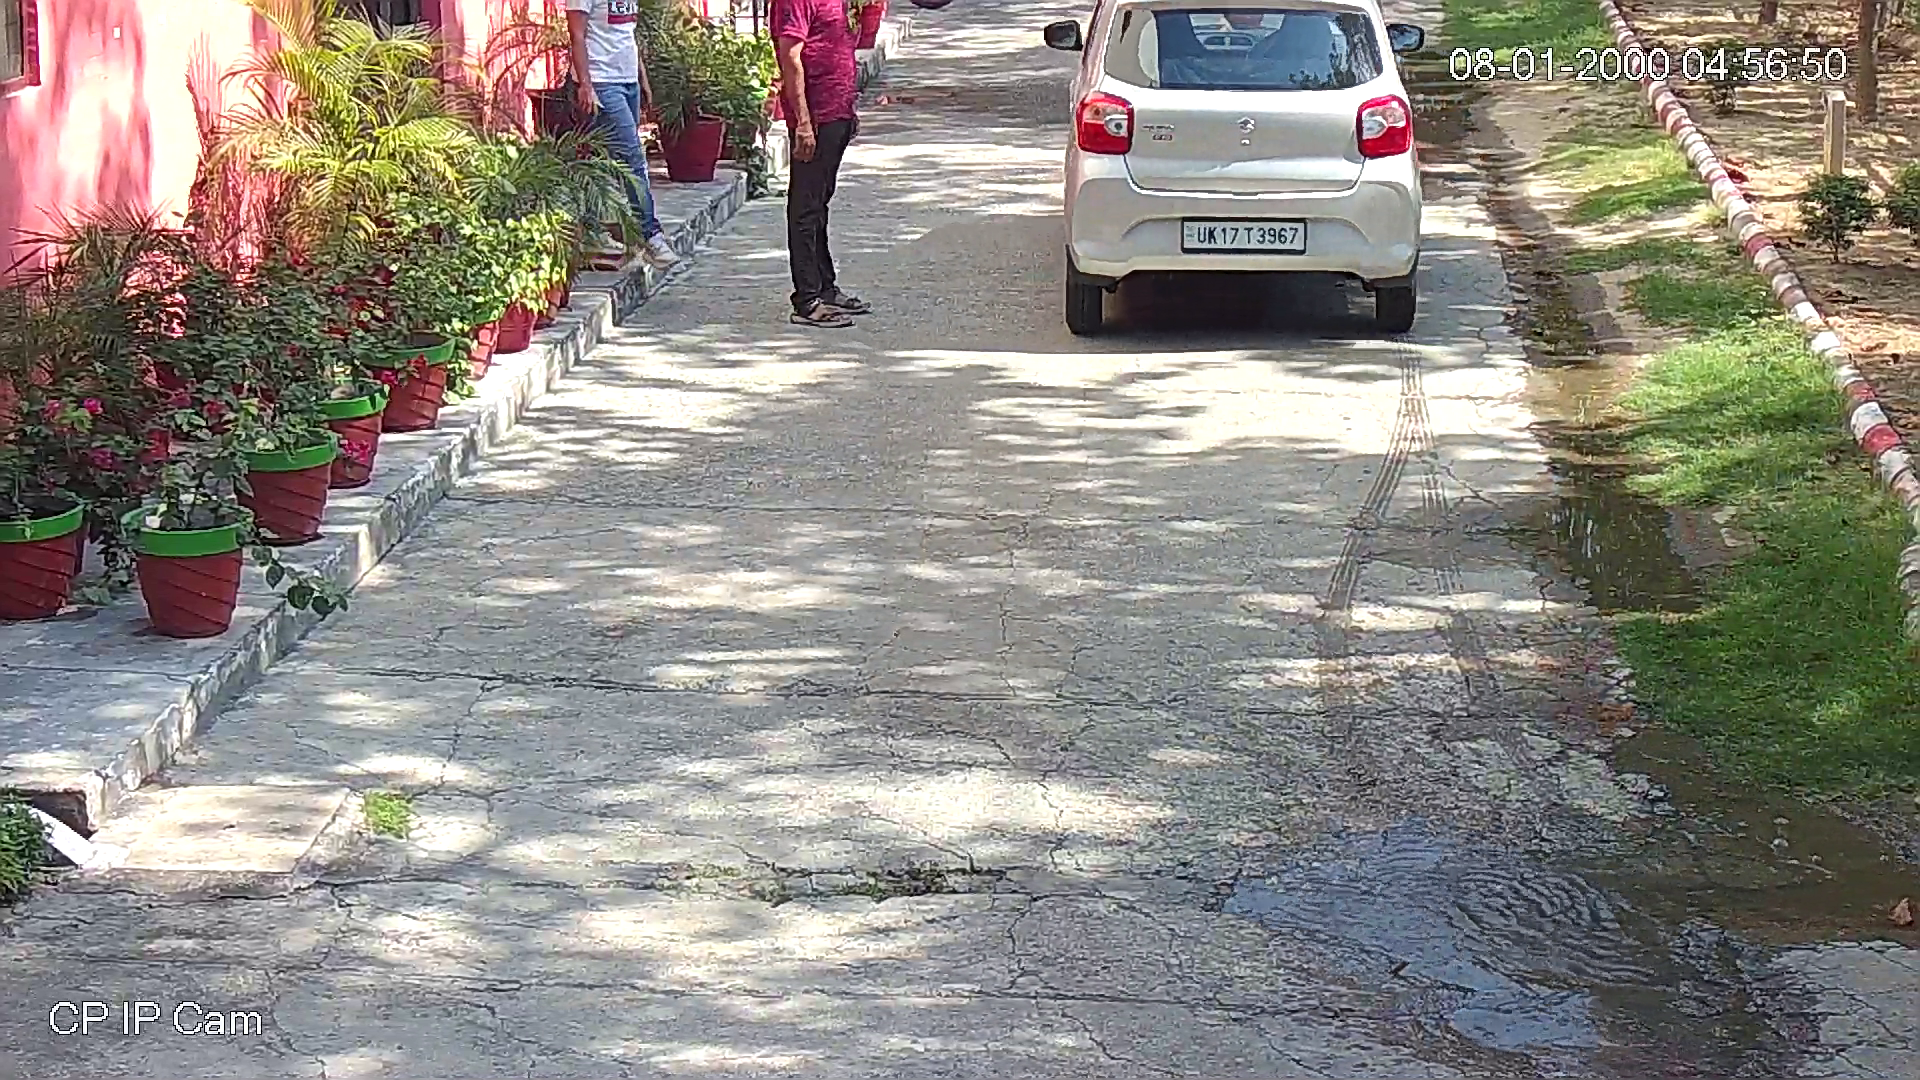plate: (1180, 214, 1306, 258)
